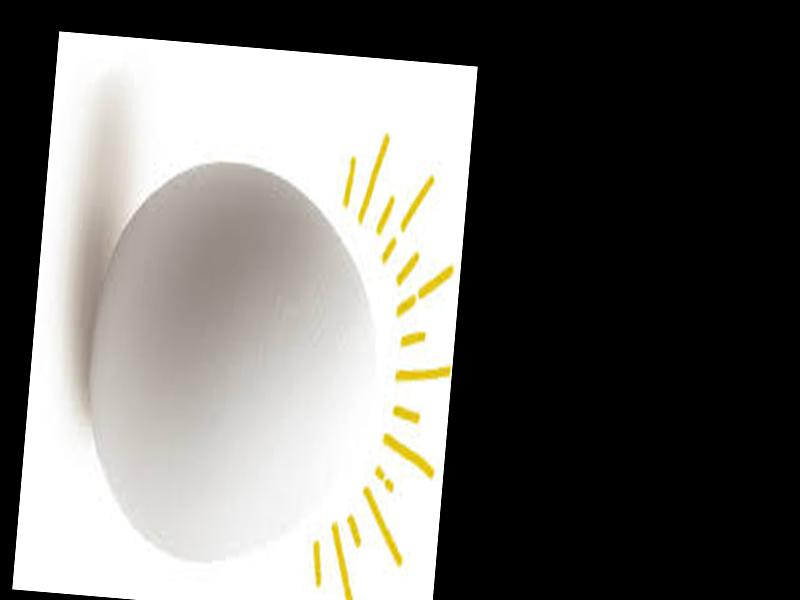Eggs: (74, 152, 389, 578)
